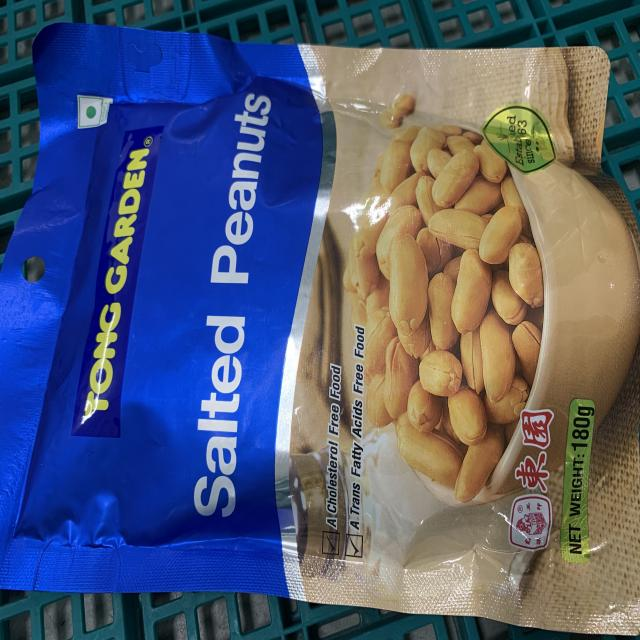object_name: (9, 31, 640, 609)
